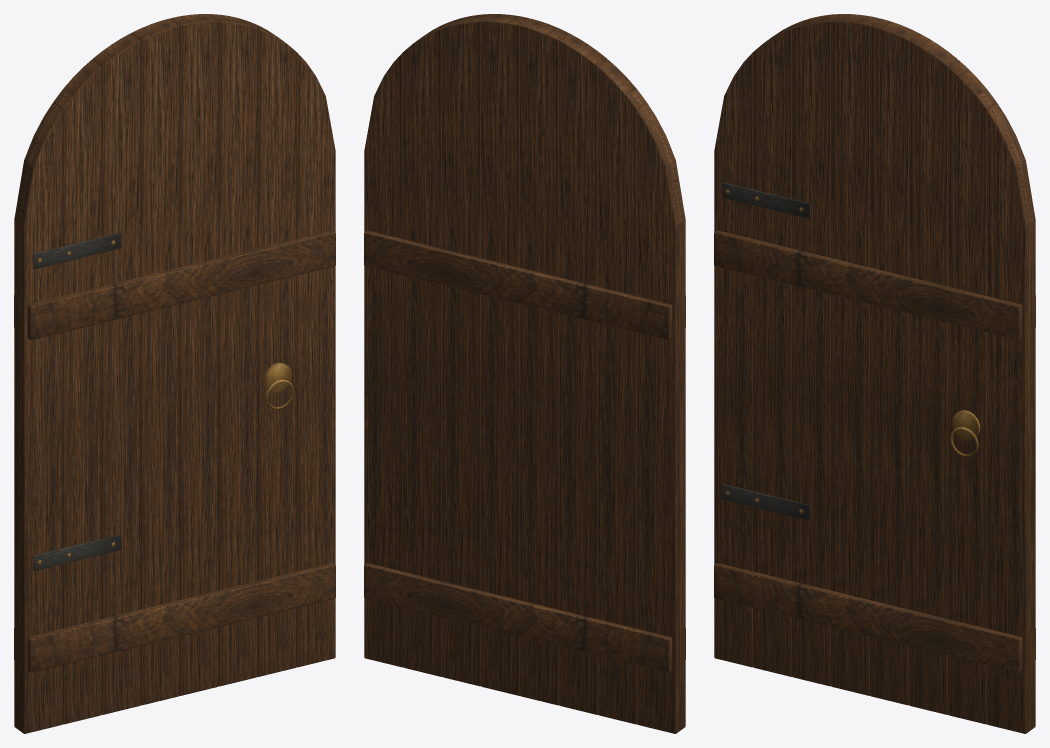
File: SM_MoleControlV2_ArchedWoodDoor.fbx
The picture shows the model from 3 angles, left to right: view 1: azimuth 30°, elevation 25°; view 2: azimuth 150°, elevation 25°; view 3: azimuth 330°, elevation 25°; orthographic projection.
Visible parts, largest first — view 1: SM_MoleControlV2_ArchedWoodDoor; view 2: SM_MoleControlV2_ArchedWoodDoor; view 3: SM_MoleControlV2_ArchedWoodDoor.
Boxes of the visible parts, box(x1,y1,x2,y2) form: SM_MoleControlV2_ArchedWoodDoor: box(14, 14, 335, 733); SM_MoleControlV2_ArchedWoodDoor: box(364, 14, 685, 733); SM_MoleControlV2_ArchedWoodDoor: box(714, 14, 1035, 733).
Size of what is drawn, in the model's own units: 106 by 10 by 218.
